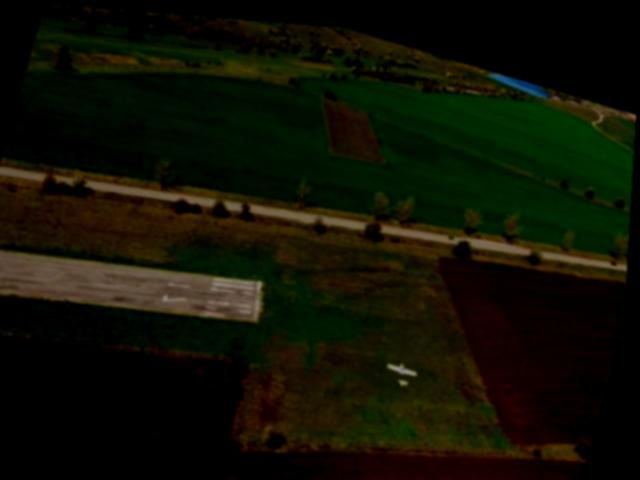uav: (379, 343, 428, 389)
